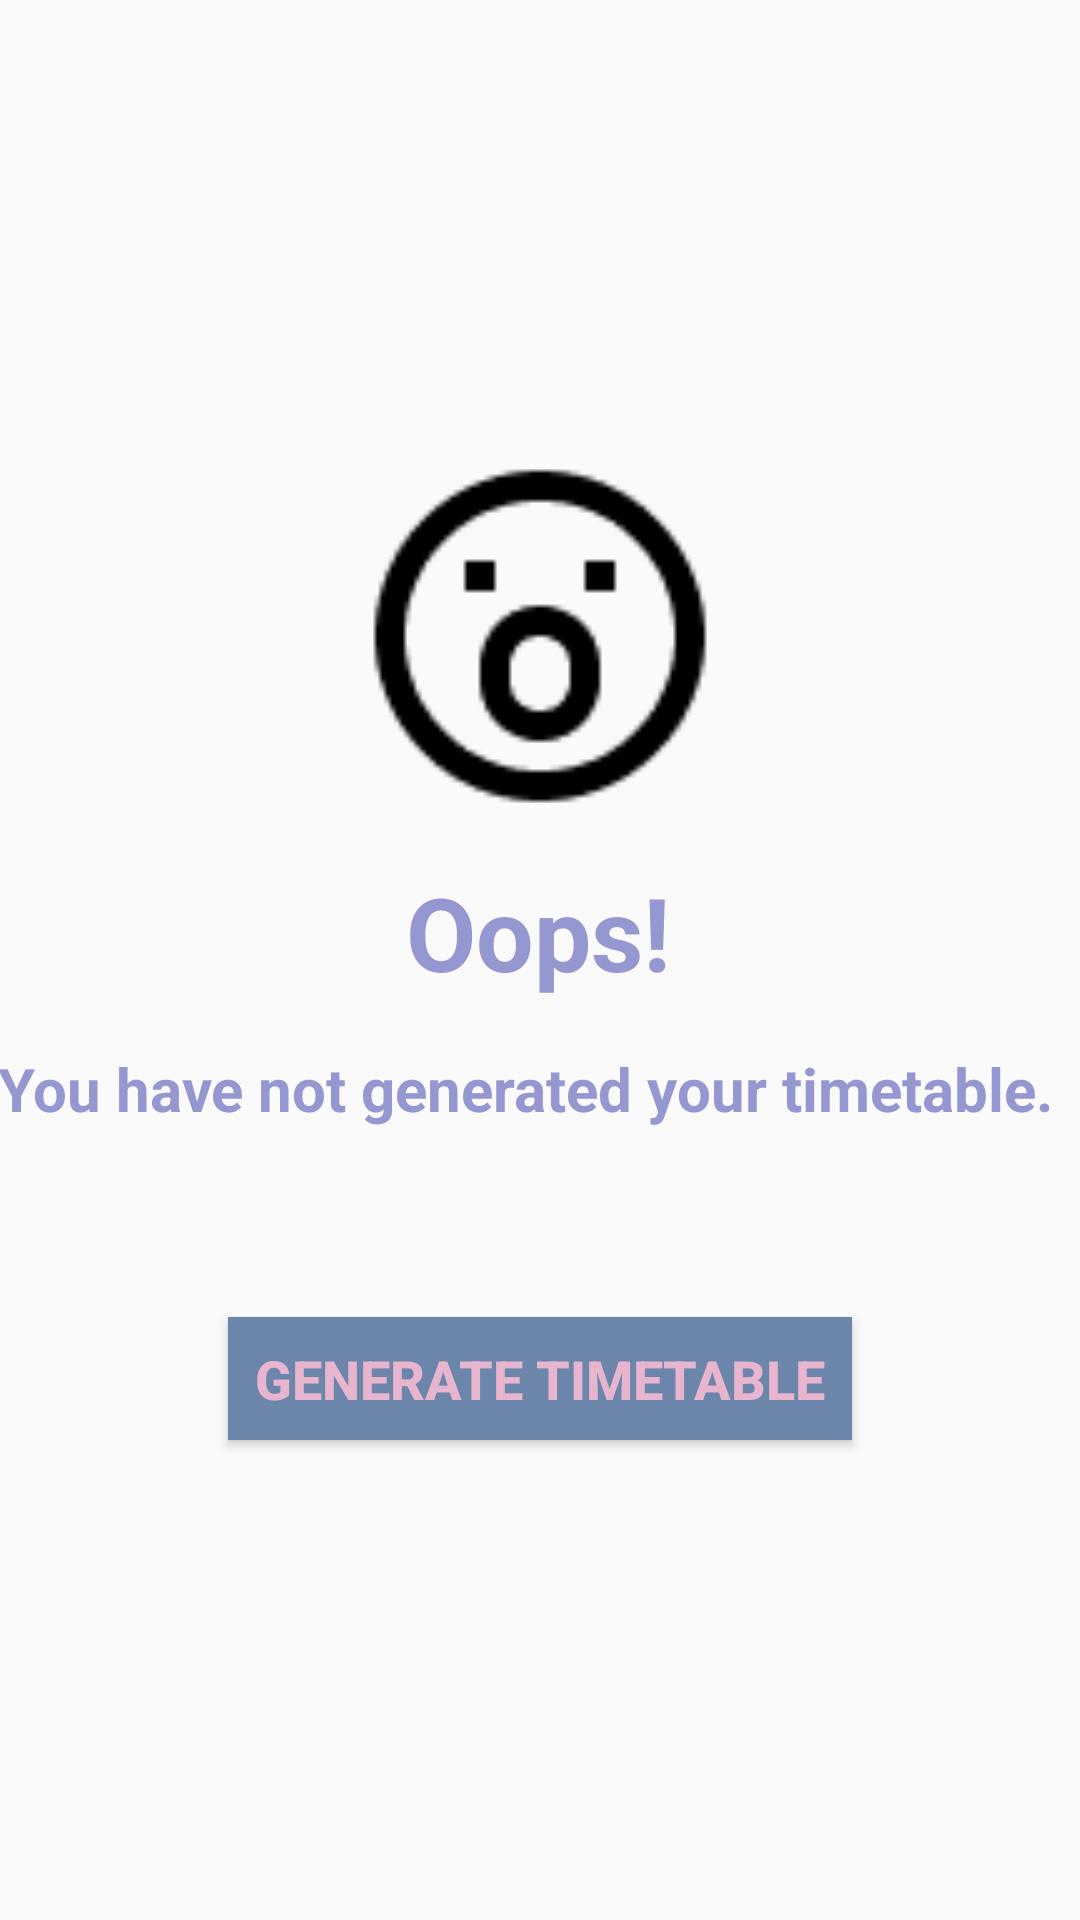

Icon click points for this 1080 x 1920 phone screenshot, format (x,y):
shocked: (540,636)
